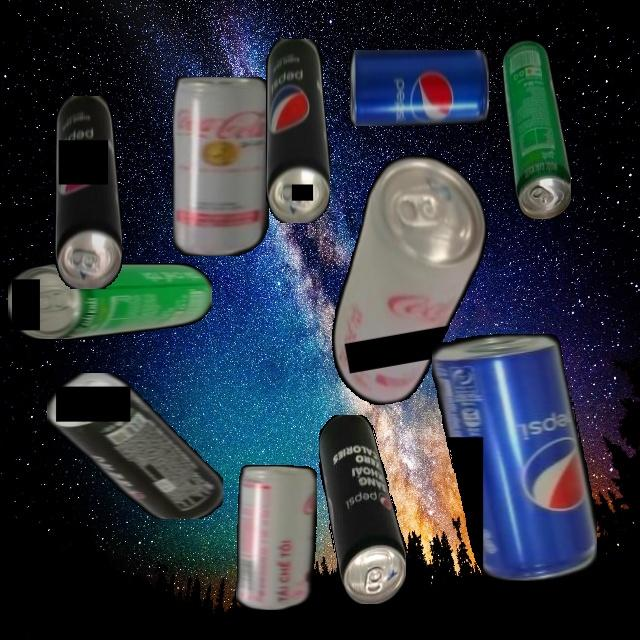debris: (302, 145, 514, 412), (431, 334, 597, 581), (46, 373, 223, 519), (173, 76, 269, 256), (318, 414, 406, 604), (8, 262, 212, 339), (54, 95, 122, 289), (502, 38, 571, 219), (265, 38, 330, 223), (236, 464, 317, 610), (349, 49, 489, 126)
